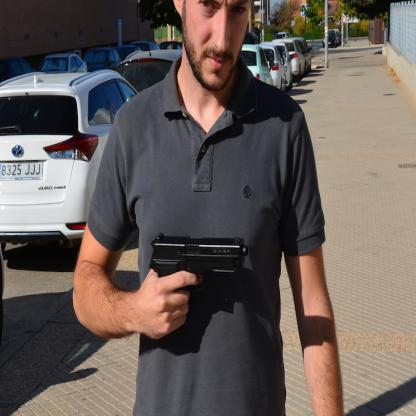gun: (147, 231, 247, 293)
